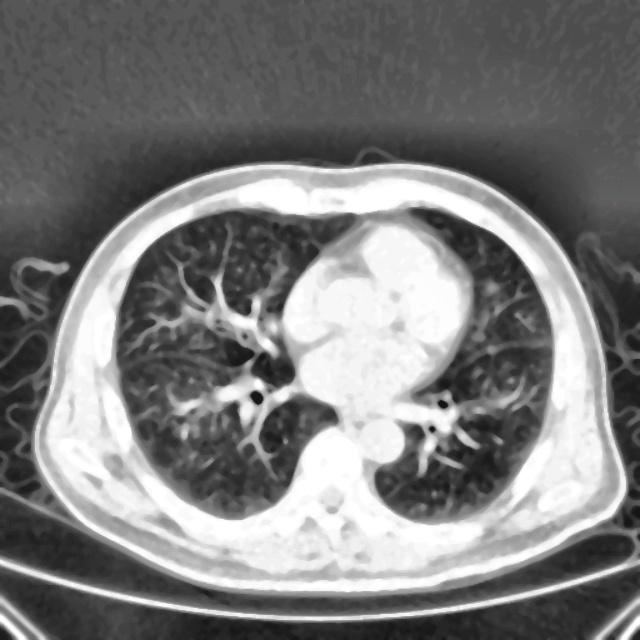covid: (32, 158, 628, 597)
